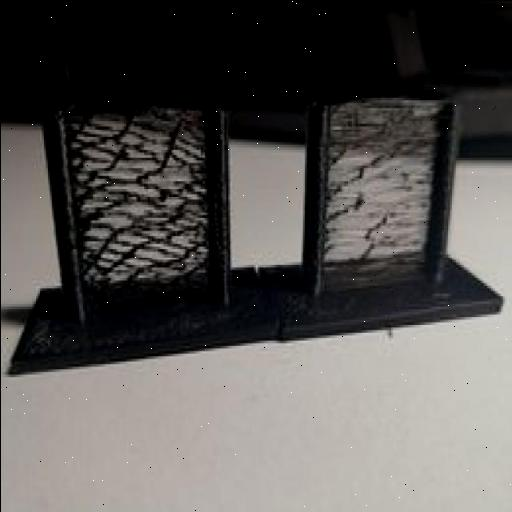stringing: (58, 106, 216, 302), (318, 100, 450, 291)
